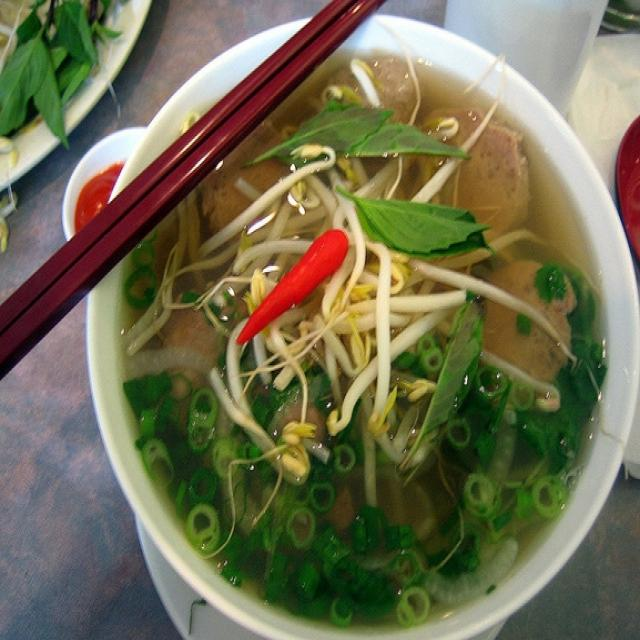面条主食: (105, 31, 616, 610)
